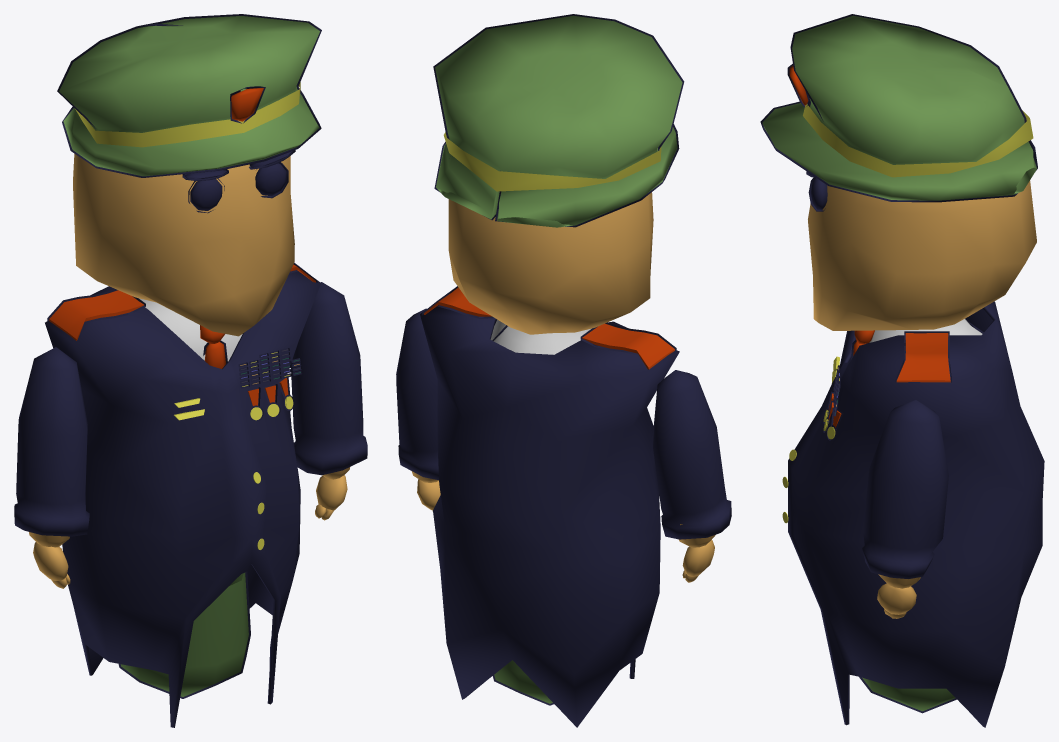
File: General01.FBX
3 renders of one model, left to right at view 1: azimuth 30°, elevation 25°; view 2: azimuth 150°, elevation 25°; view 3: azimuth 270°, elevation 25°, orthographic. The views are drawn at different scales.
Visible parts, largest first — view 1: Sphere021.001, Hat001; view 2: Sphere021.001, Hat001; view 3: Sphere021.001, Hat001.
Boxes of the visible parts, <box> form: Sphere021.001: <box>14,14,367,727</box>; Hat001: <box>75,82,300,147</box>; Sphere021.001: <box>396,14,731,727</box>; Hat001: <box>443,132,661,191</box>; Sphere021.001: <box>760,14,1044,727</box>; Hat001: <box>803,104,1033,177</box>.
Bounding box in the file's own units: 90.76 × 173 × 66.87.
